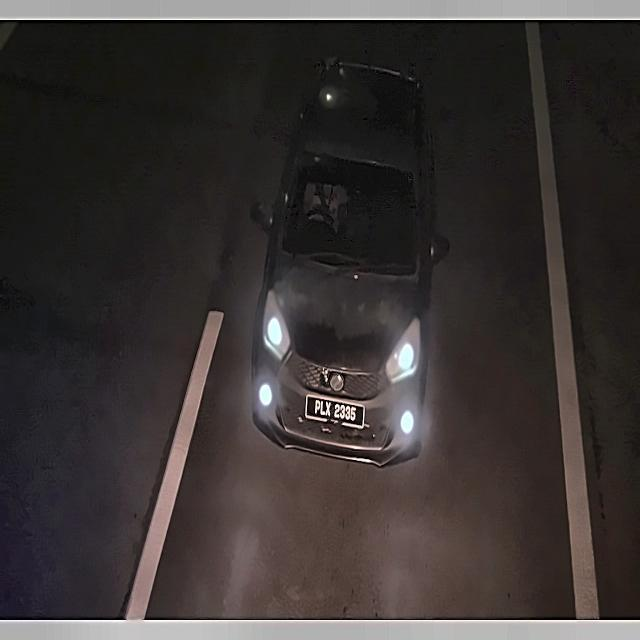car: (300, 381, 369, 441)
